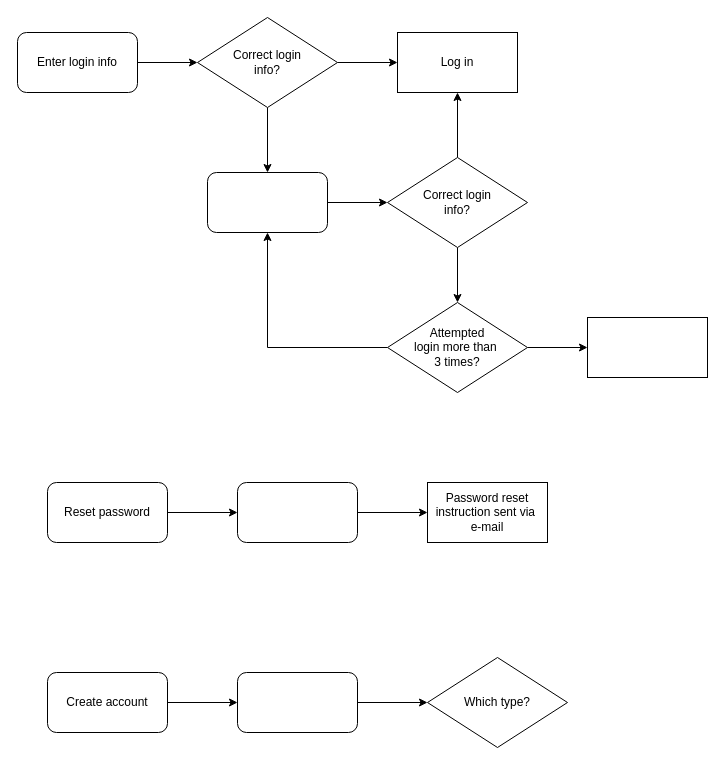
This 725x765 diagram has some shape labels left out. Here are the shapes that lost their labels. From the top down, the centre of each, then its label:
point 267,202: Retry login
point 647,347: Timeout
point 297,512: Enter email address
point 297,702: Enter account type
